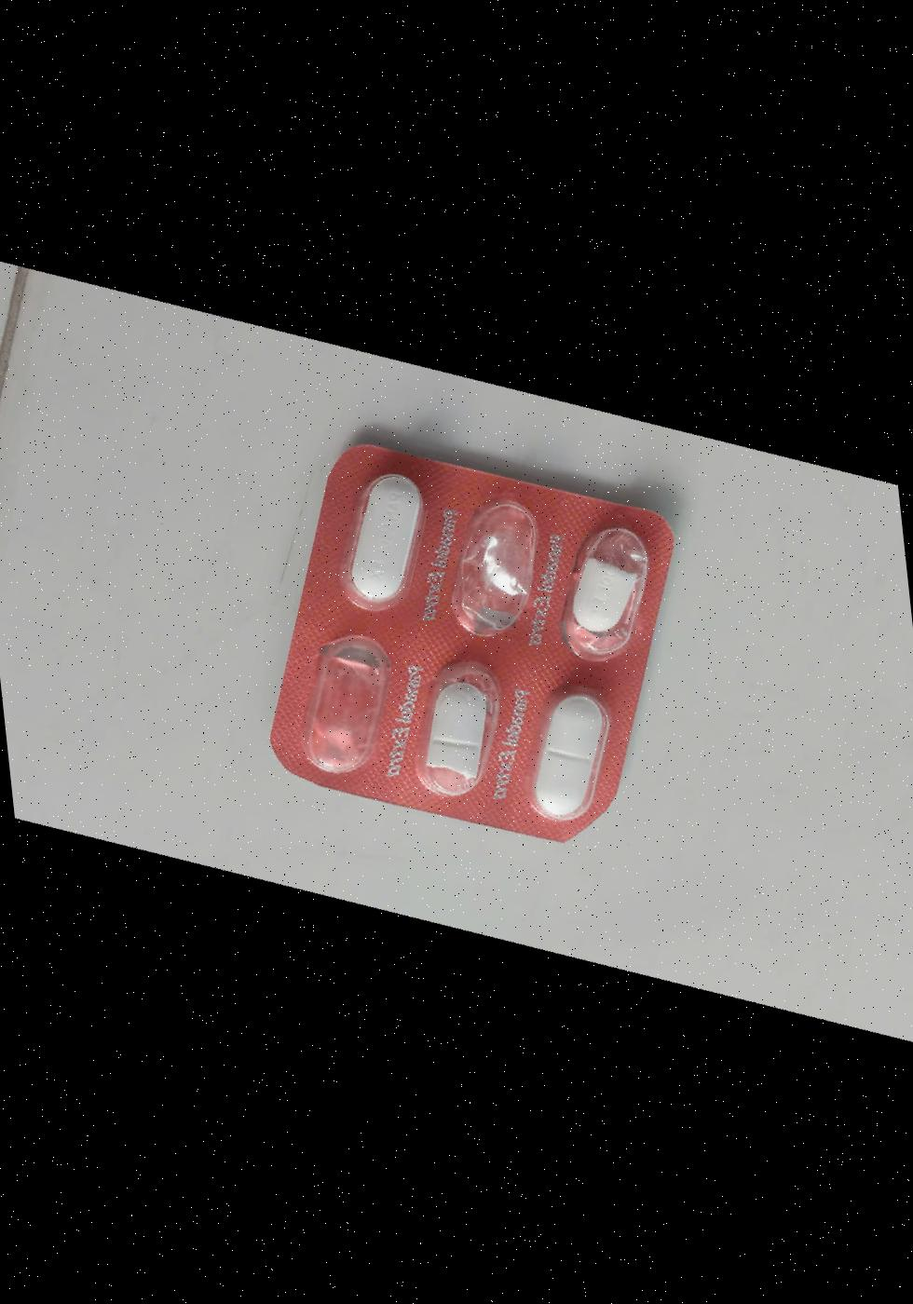Empty: (437, 488, 551, 650), (291, 623, 404, 784)
Full: (515, 677, 629, 839), (328, 459, 442, 621)
Partial: (551, 514, 665, 676), (402, 652, 516, 814)
